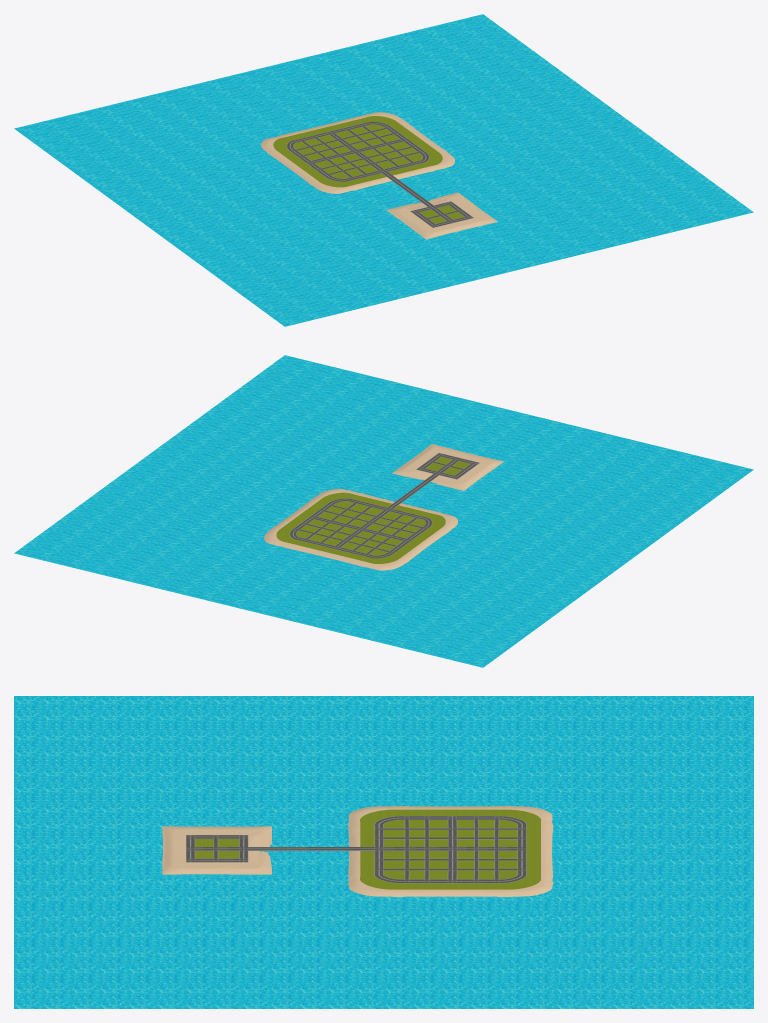
File: Drift game map 1.fbx
3 views of the same model, one above another, from view 1: azimuth 30°, elevation 25°; view 2: azimuth 150°, elevation 25°; view 3: azimuth 270°, elevation 25° (orthographic). The views are drawn at different scales.
Visible parts, largest first — view 1: water, desert1, road1, footpath, grass; view 2: water, desert1, road1, footpath, grass; view 3: water, desert1, road1, grass, footpath.
Boxes of the visible parts, box(x1,y1,x2,y2) form: water: box(14, 14, 753, 326); desert1: box(261, 112, 497, 239); road1: box(287, 121, 472, 227); footpath: box(286, 121, 473, 227); grass: box(273, 116, 442, 187); water: box(14, 355, 753, 667); desert1: box(264, 444, 503, 570); road1: box(290, 453, 478, 558); footpath: box(289, 453, 479, 558); grass: box(276, 492, 445, 563); water: box(14, 696, 753, 1008); desert1: box(162, 806, 553, 896); road1: box(186, 816, 526, 882); grass: box(360, 809, 540, 889); footpath: box(186, 816, 526, 883).
Size of the model in its own units: 355273 by 1740 by 355273.
